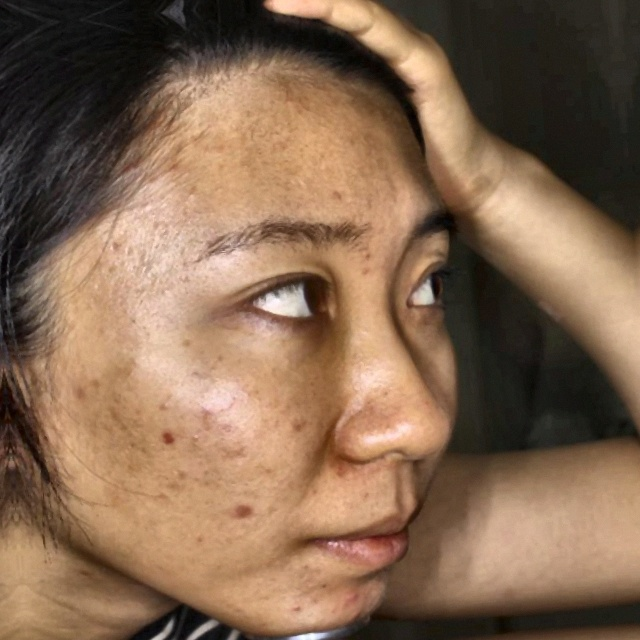comedone: (223, 490, 266, 525), (333, 587, 365, 614)
